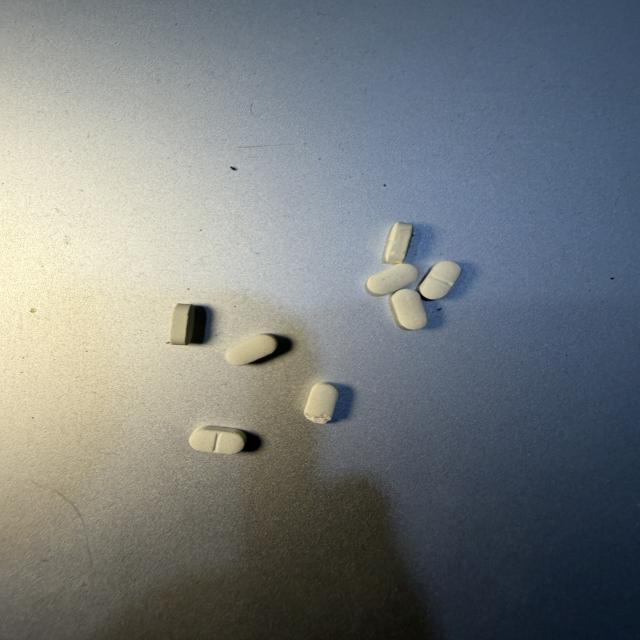pill: (366, 264, 418, 296), (419, 261, 461, 299), (226, 334, 277, 365), (189, 426, 246, 453), (390, 289, 427, 329), (304, 383, 338, 423), (382, 222, 413, 264), (170, 304, 195, 344)
